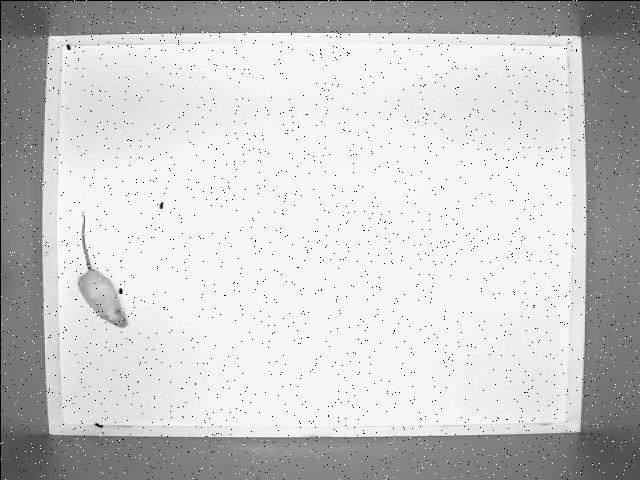Tikus: (60, 210, 140, 332)
